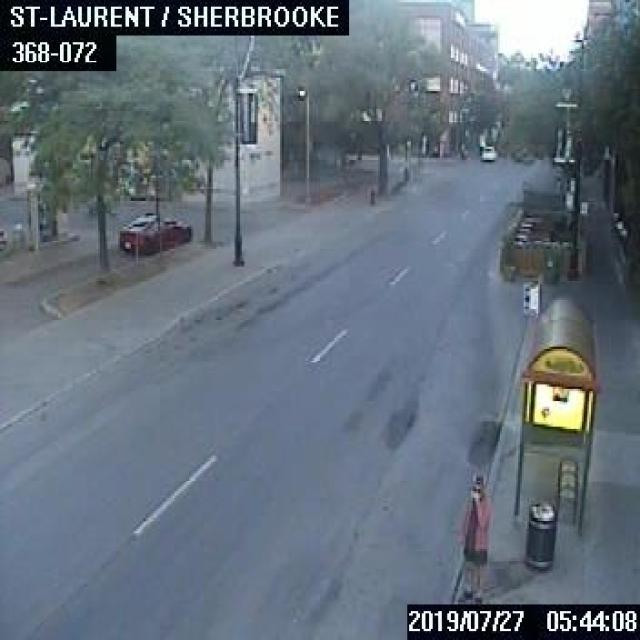pedestrian: (455, 469, 489, 595)
vehicle: (118, 211, 190, 255), (478, 144, 495, 162)
